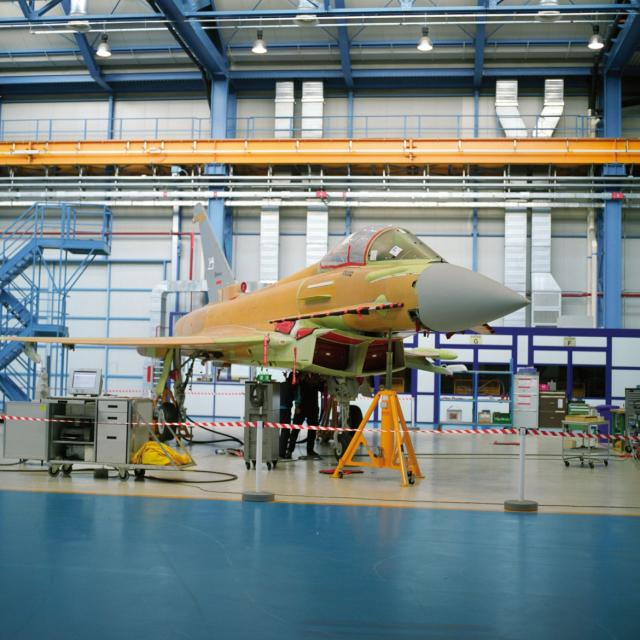MIL_Plane: (1, 201, 532, 461)
